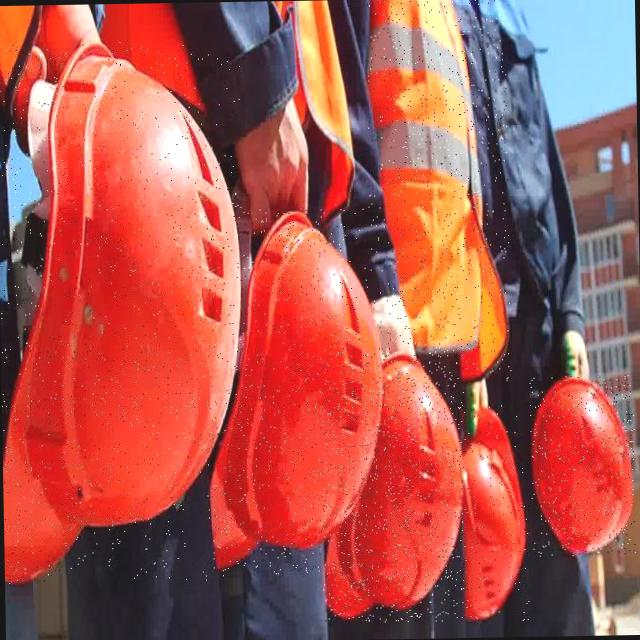helmet: (0, 39, 248, 584), (202, 207, 386, 576), (318, 350, 469, 623), (529, 374, 636, 557), (460, 405, 530, 622)
vest: (364, 0, 511, 385)
